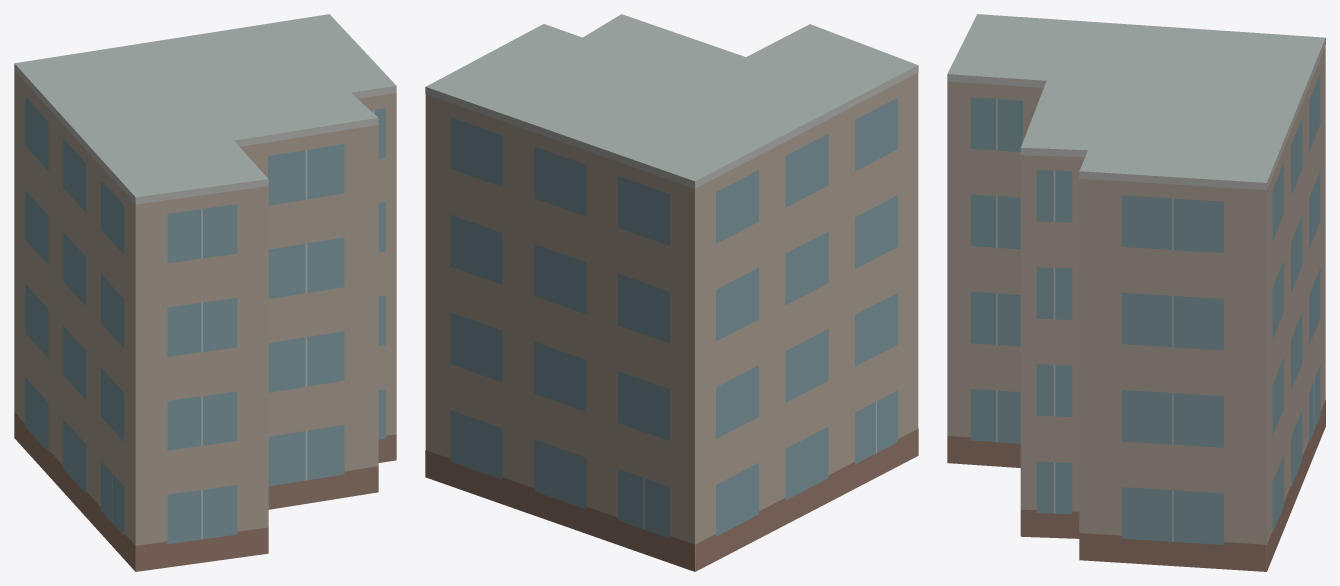
The model's file is survey-upis-32729347.glb.
The picture shows the model from 3 angles, left to right: view 1: azimuth 30°, elevation 25°; view 2: azimuth 150°, elevation 25°; view 3: azimuth 270°, elevation 25°; orthographic projection. The views are drawn at different scales.
Visible parts, largest first — view 1: survey-upis-32729347.tmp; view 2: survey-upis-32729347.tmp; view 3: survey-upis-32729347.tmp.
Boxes of the visible parts, left/top/right/bottom form: survey-upis-32729347.tmp: left=14, top=14, right=396, bottom=571; survey-upis-32729347.tmp: left=425, top=14, right=918, bottom=571; survey-upis-32729347.tmp: left=947, top=14, right=1325, bottom=571.
Bounding box in the file's own units: 12.07 × 12.95 × 11.43.
